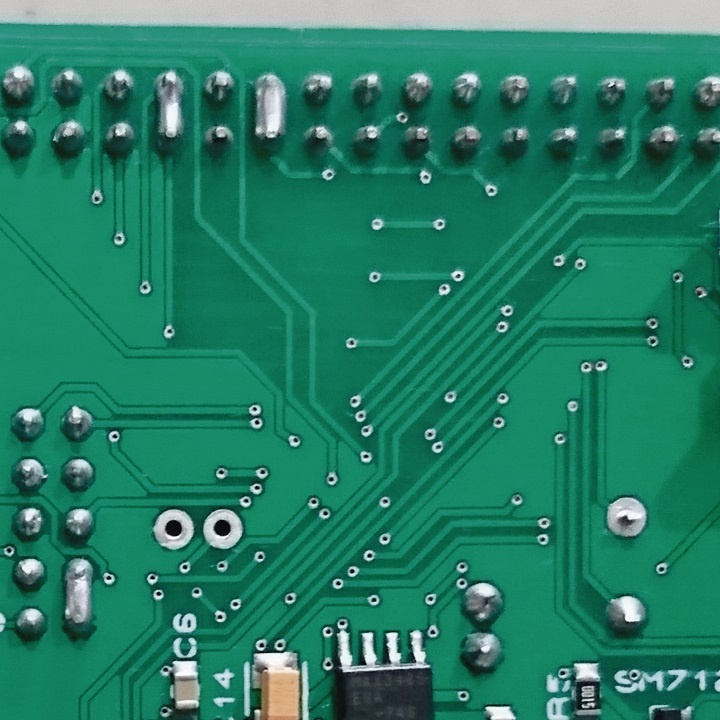F: (601, 493, 653, 548), (203, 503, 248, 556), (153, 501, 194, 551)
P: (59, 552, 100, 645), (150, 67, 190, 155), (252, 71, 291, 156)
